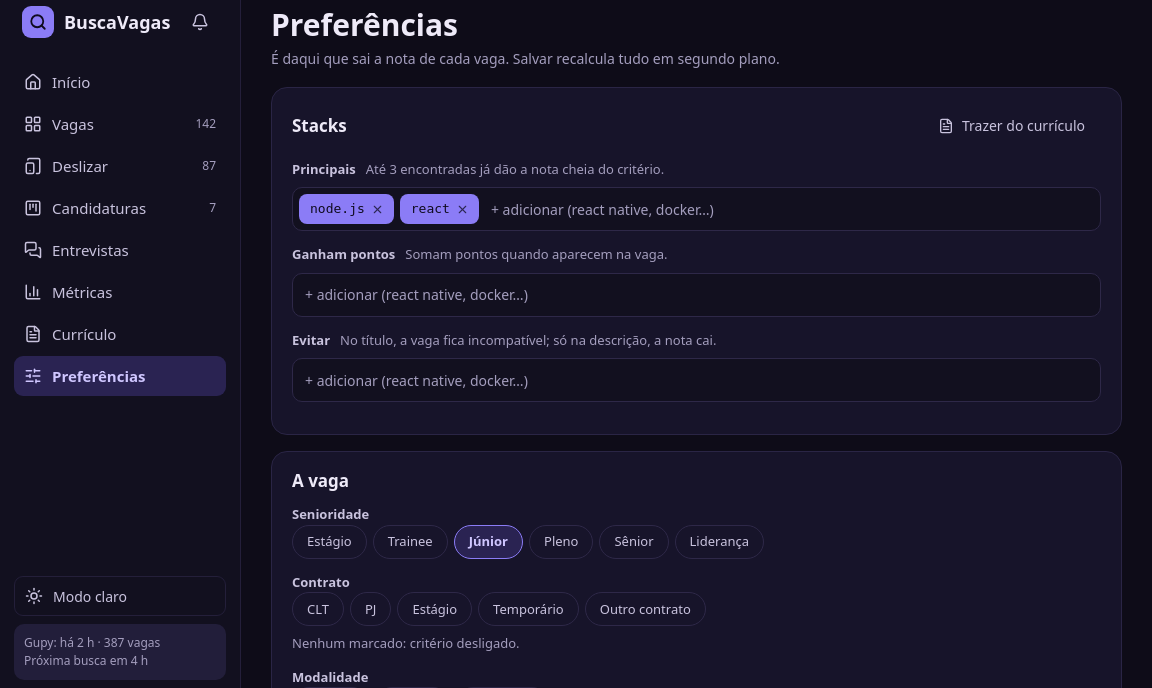
Preferências › "Trazer do currículo": marca o que é novo e manda para o grupo escolhido
The width and height of the screenshot is (1152, 688).
Click the button "Trazer do currículo" at point(1011, 126), box [922,106,1101,146]
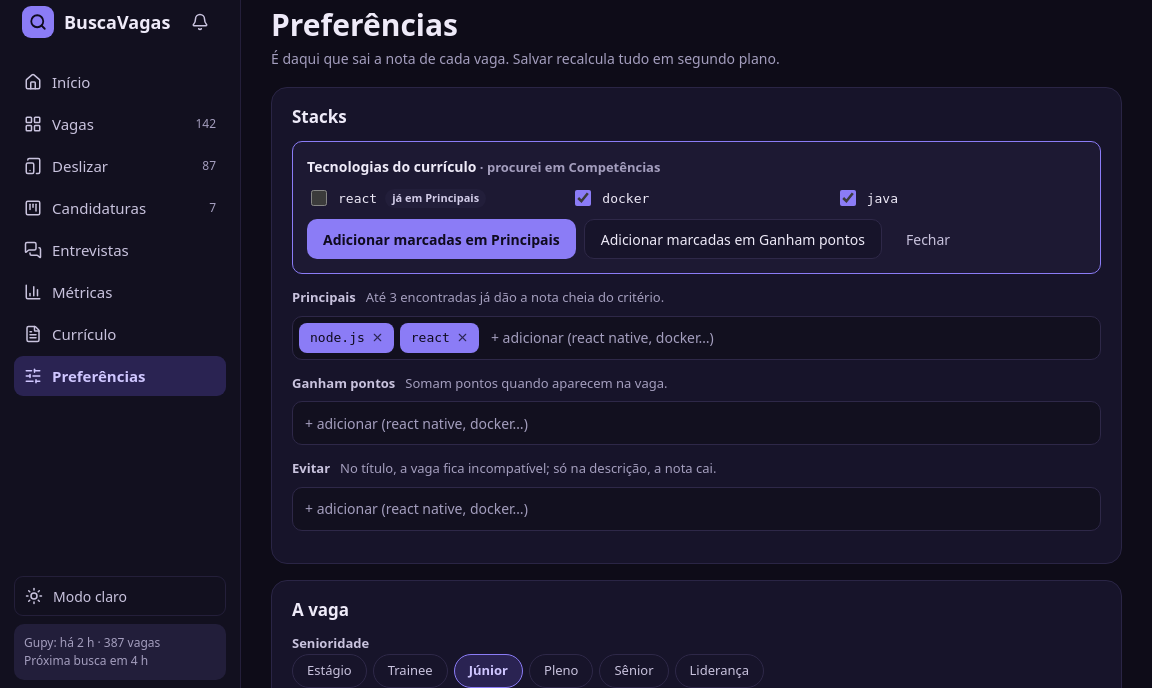
Now the element "Tecnologias do currículo" shows "procurei em Competências", box [292,141,1101,274]
Now the checkbox labelled "react já em Principais" is not checked, box [311,190,327,206]
Now the text "já em Principais" is shown, box [385,189,486,208]
Click the checkbox labelled "java" at point(848, 198), box [840,190,856,206]
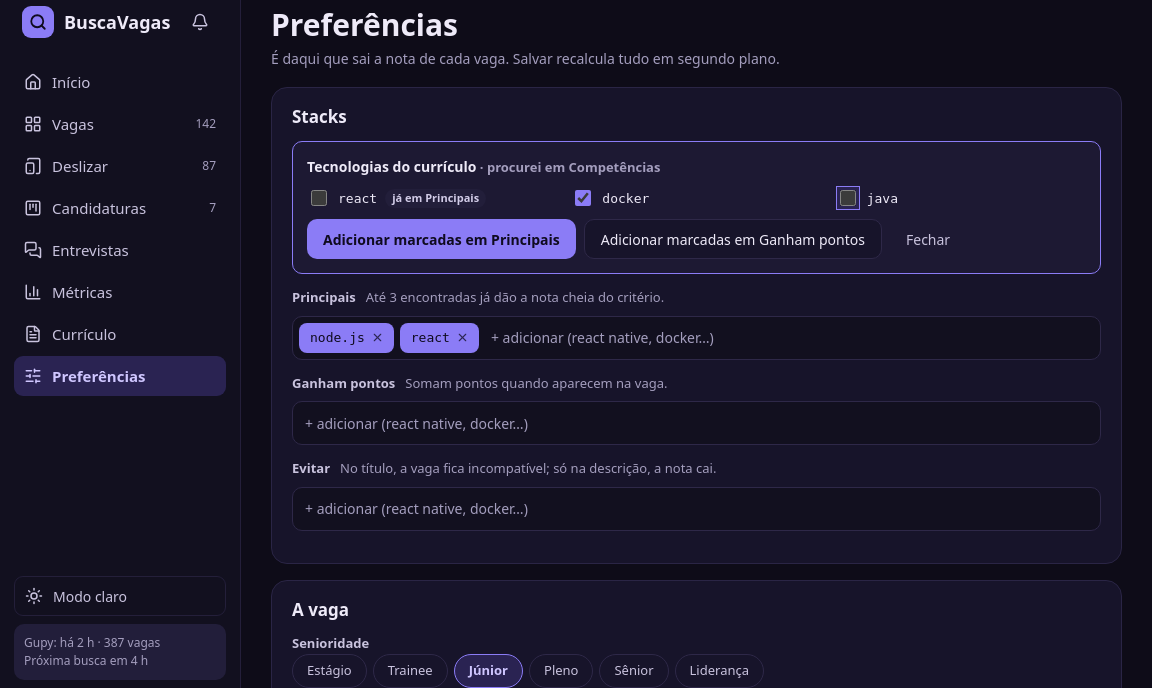
Click the button "Adicionar marcadas em Ganham pontos" at point(733, 239), box [584,219,882,259]
(page scrolled)
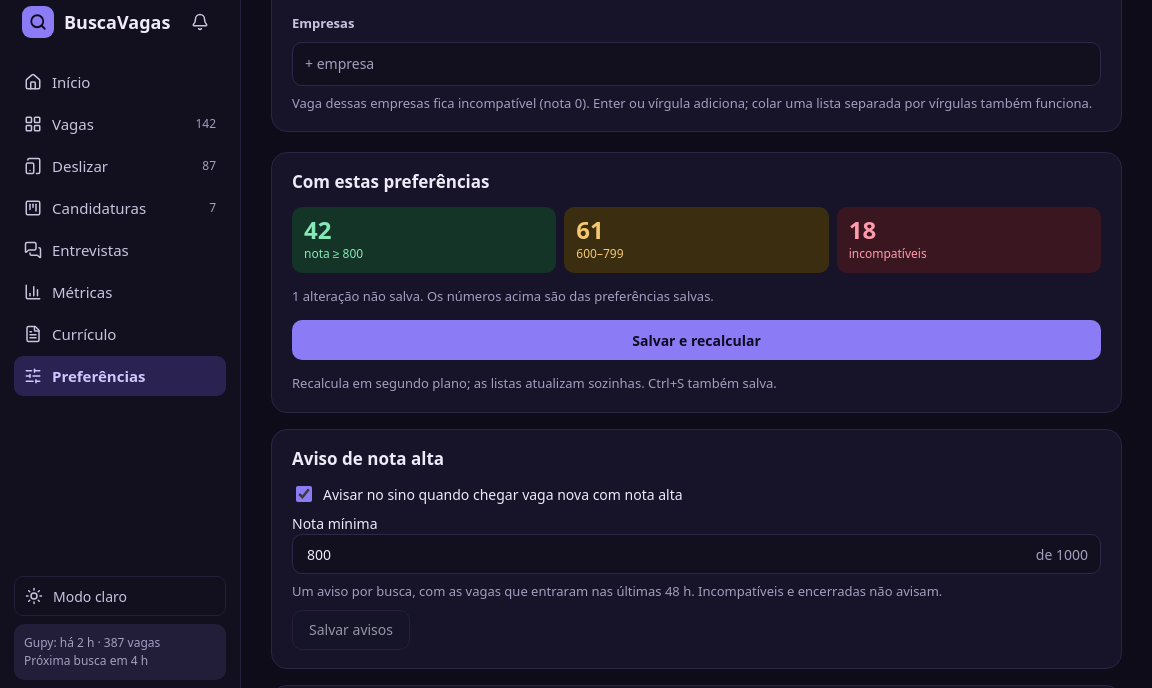
Now the element "Tecnologias do currículo" is gone
Now the button "Salvar e recalcular" is enabled, box [292,320,1101,360]
